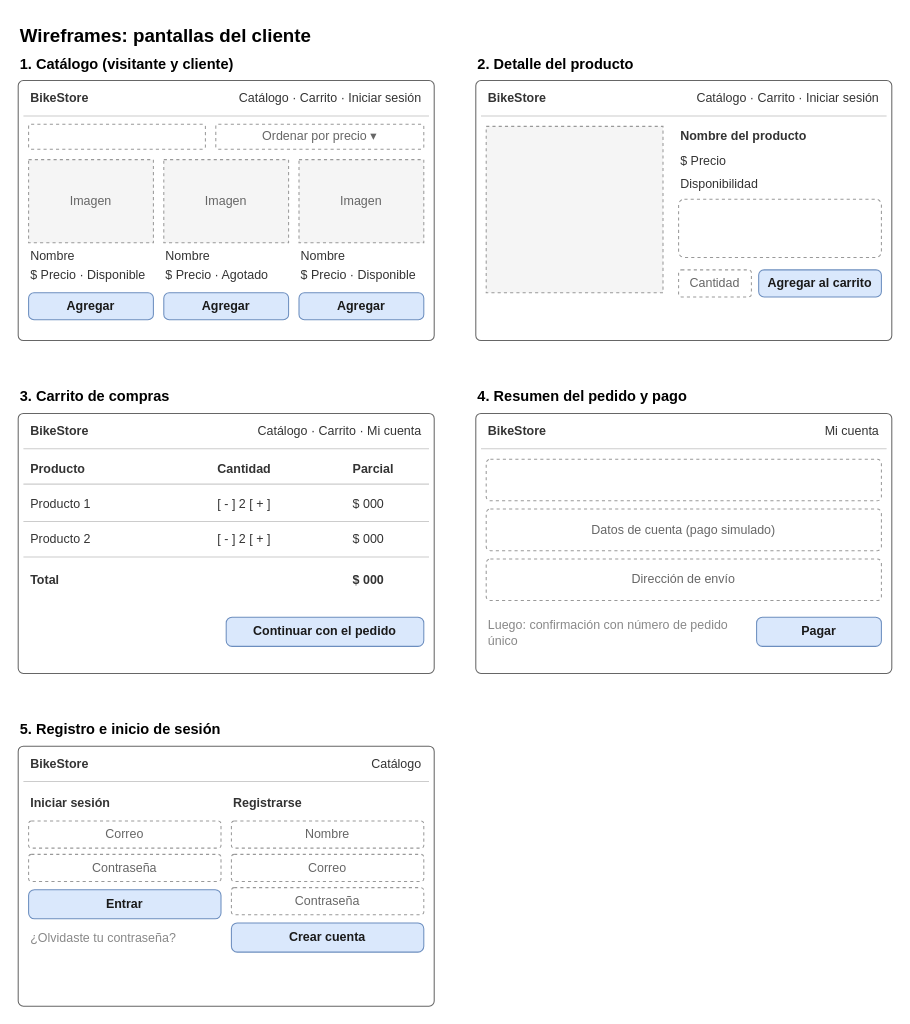
Some shapes in this 910 by 1024 pixel diagram are drawn without their labels. The box of each missing label's shape, as (x1, y1, x2, y2) in pixels:
Categoría ▾: (28, 123, 205, 149)
Descripción: (678, 198, 881, 257)
Imagen grande: (485, 125, 663, 293)
Resumen: productos, cantidades y total: (485, 458, 881, 501)
